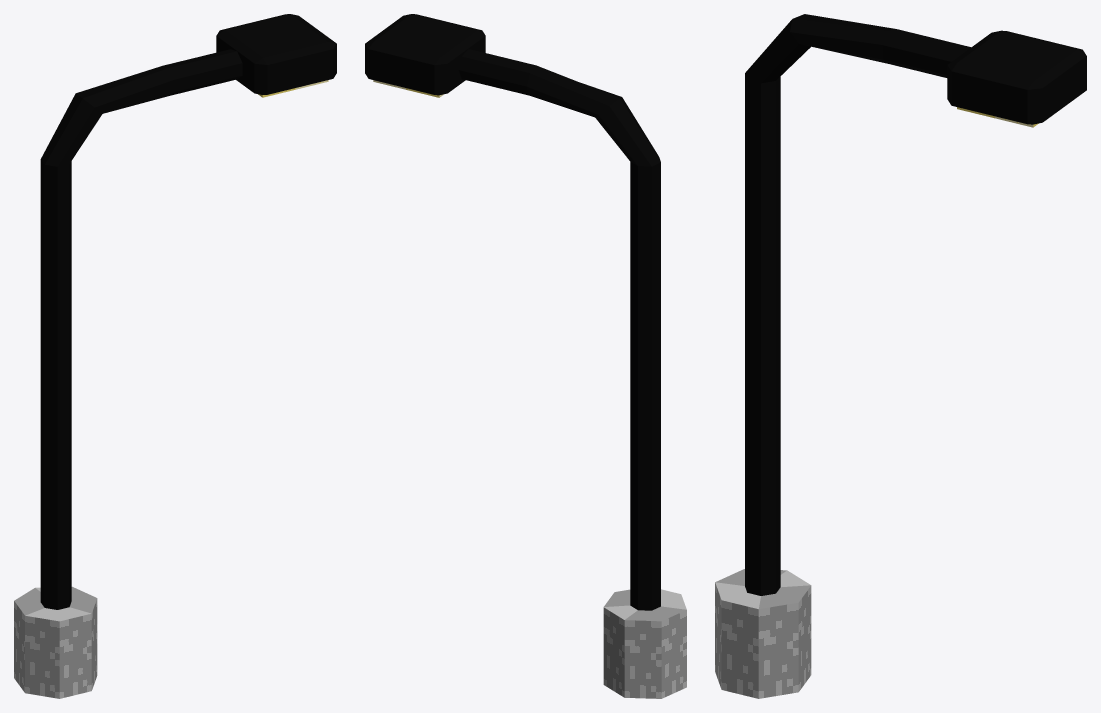
File: lightpost.gltf
3 views of the same model, side by side, from view 1: azimuth 30°, elevation 25°; view 2: azimuth 150°, elevation 25°; view 3: azimuth 330°, elevation 25° (orthographic). The views are drawn at different scales.
Visible parts, largest first — view 1: Cube.001; view 2: Cube.001; view 3: Cube.001.
Part boxes in pixels (x1=…): Cube.001: x1=14, y1=14, x2=336, y2=698; Cube.001: x1=365, y1=14, x2=686, y2=698; Cube.001: x1=715, y1=14, x2=1086, y2=698.
Size of the model in its own units: 8.03 by 15.25 by 2.22.
Materials: 1 (1 with a texture image).
